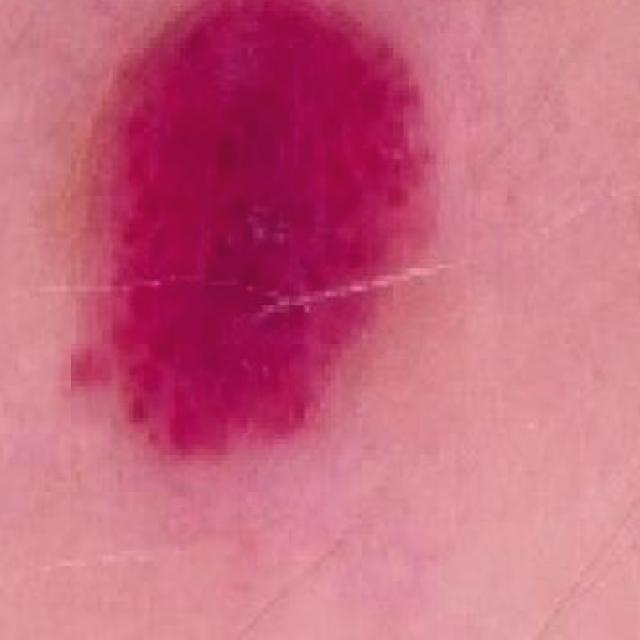VASC: (16, 0, 448, 481)
